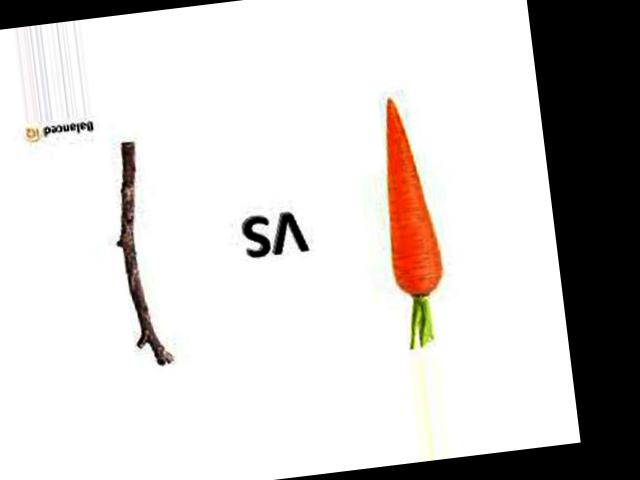carrot: (362, 87, 449, 310)
